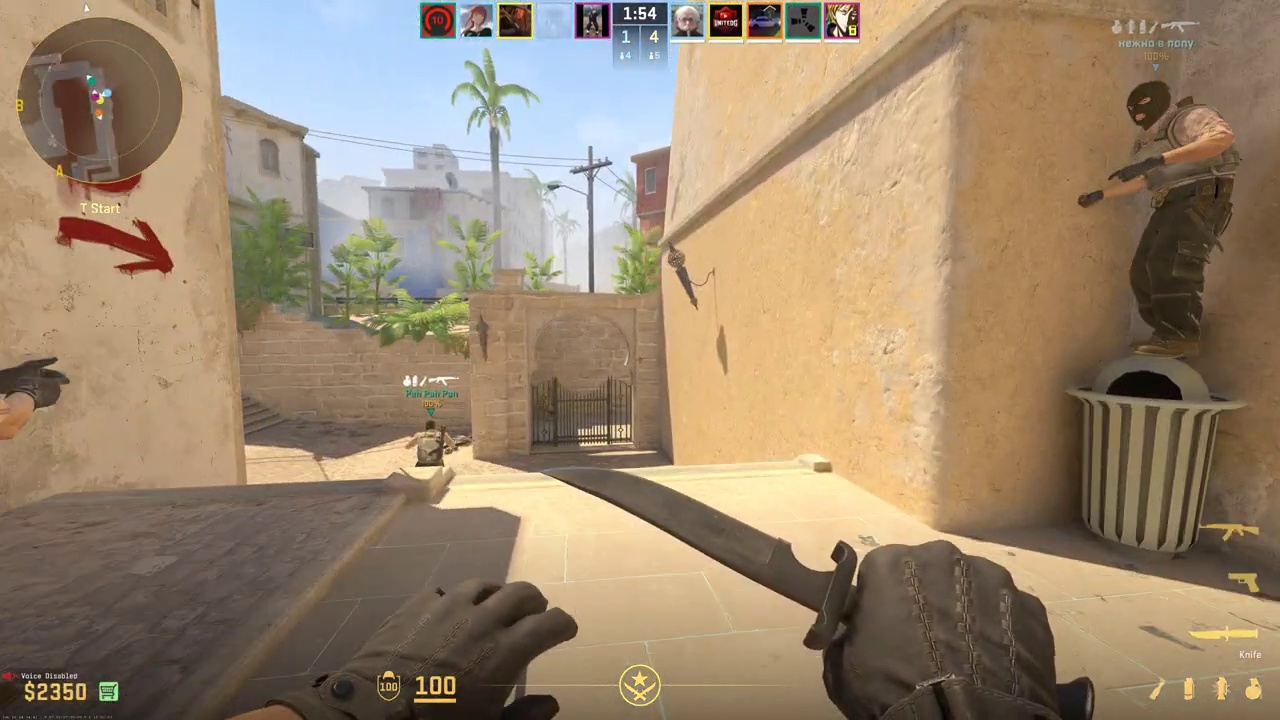Terrorist: (1113, 80, 1233, 352), (415, 421, 448, 467)
